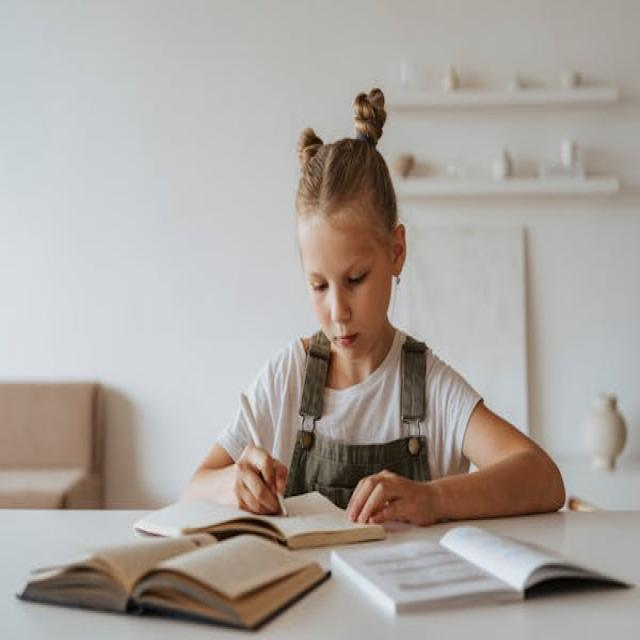pen: (226, 370, 300, 541)
